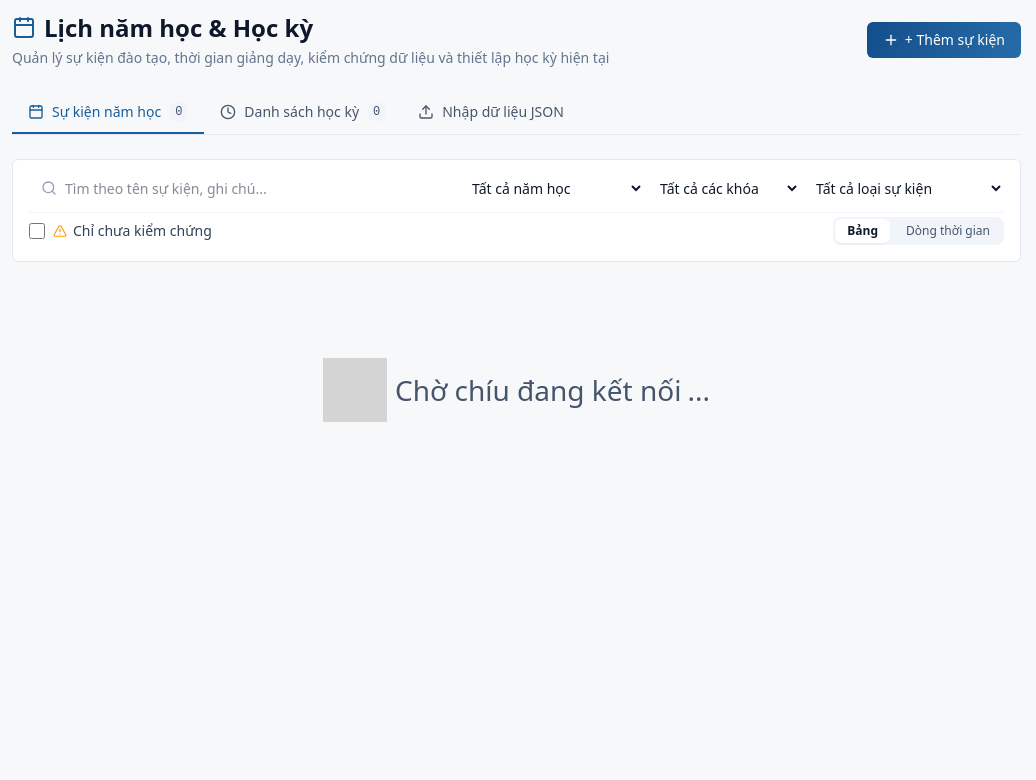
Brief A5: Quản trị Lịch năm học & Học kỳ (/admin/calendar) › 3. Tab Nhập dữ liệu JSON (JSON Import Tab) › nhập JSON không hợp lệ: hiển thị lỗi inline
Note: Chuyển sang Tab Nhập JSON
Click the button "Nhập dữ liệu JSON".
click(491, 113)  # box left=402, top=92, right=580, bottom=134
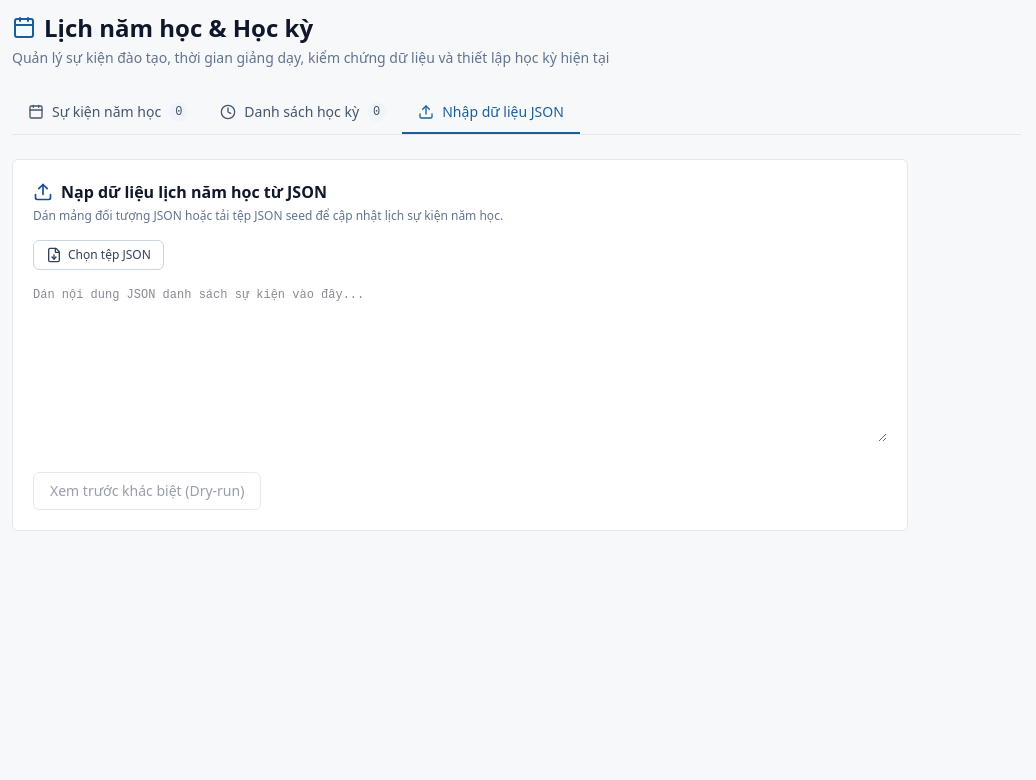
Now the heading "Nạp dữ liệu lịch năm học từ JSON" is shown, box left=33, top=181, right=327, bottom=203
Note: Nhập JSON sai định dạng
Type "invalid json string" into the text box with placeholder "Dán nội dung JSON danh sách sự kiện vào đây...".
click(460, 364); type("invalid json string")  # box left=33, top=286, right=887, bottom=442
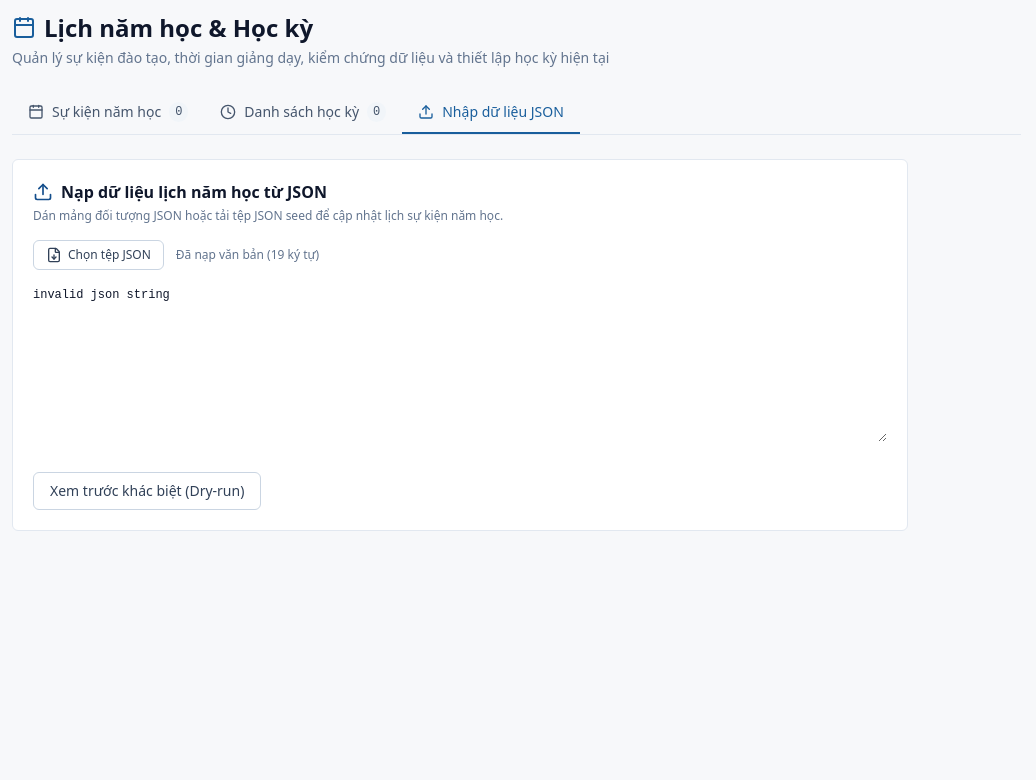
Note: Bấm nút xem trước khác biệt
Click the button "Xem trước khác biệt (Dry-run)".
click(147, 491)  # box left=33, top=472, right=261, bottom=510
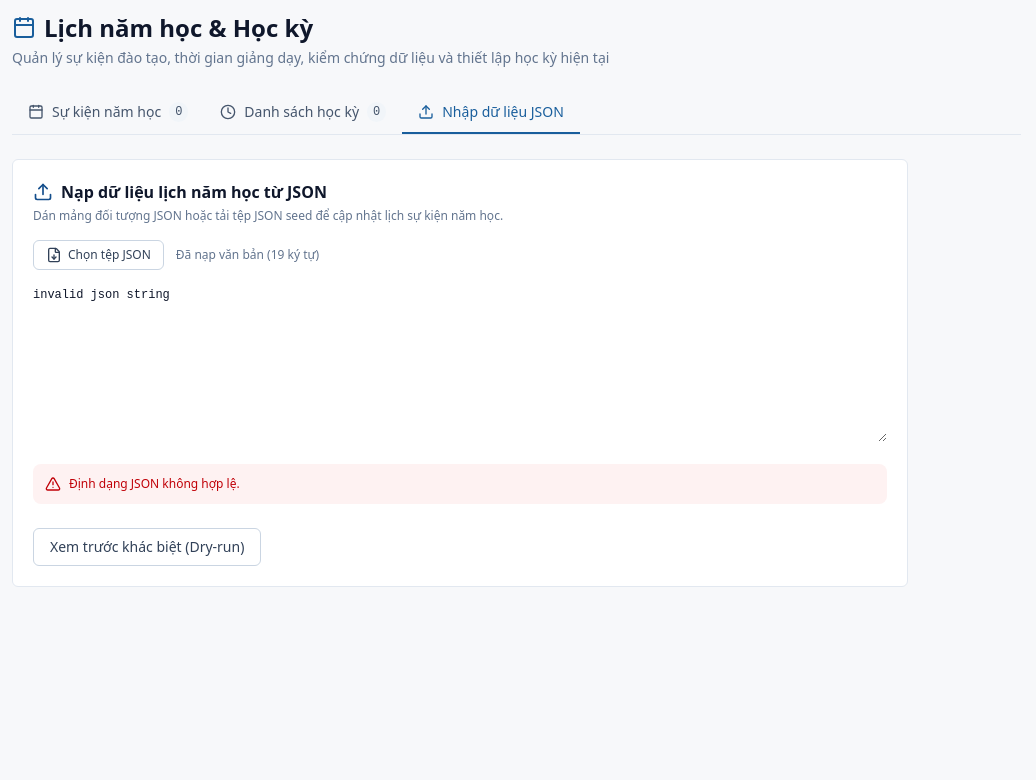
Now the text "Định dạng JSON không hợp lệ." is shown, box left=69, top=476, right=240, bottom=492
